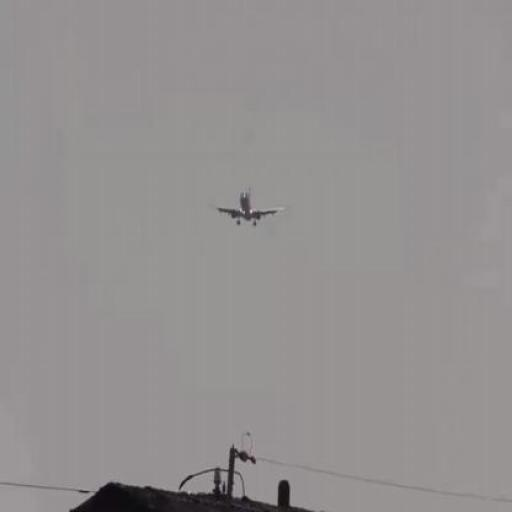aircraft: (216, 187, 290, 227)
